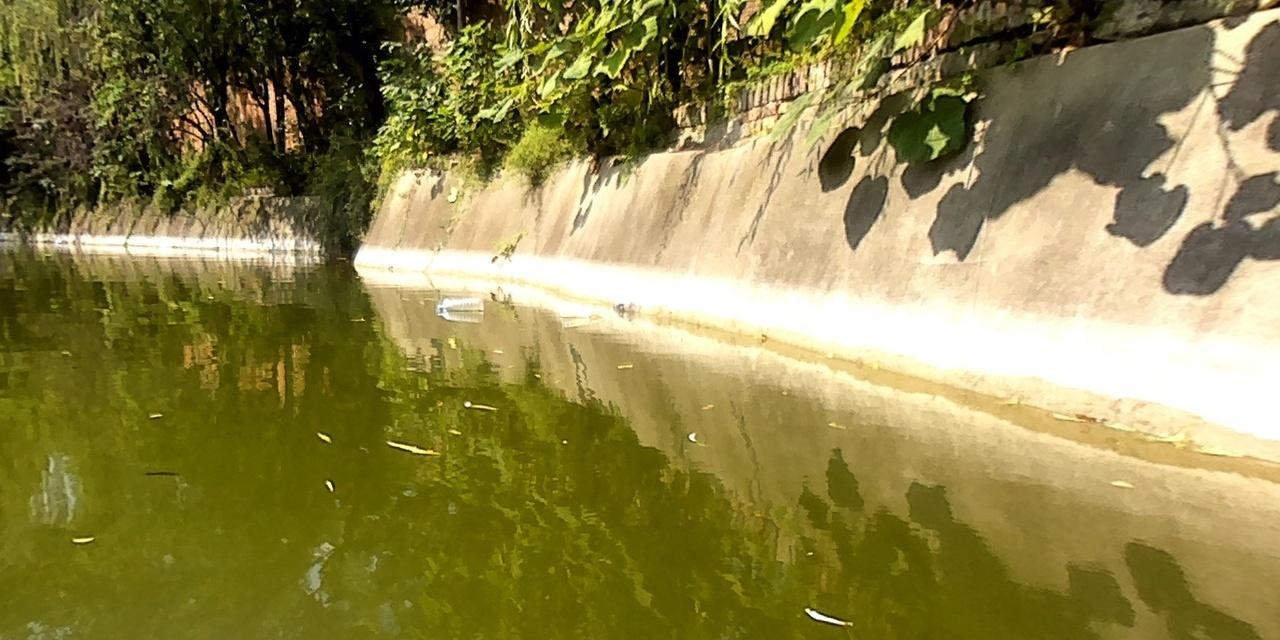bottle: (434, 295, 485, 315)
